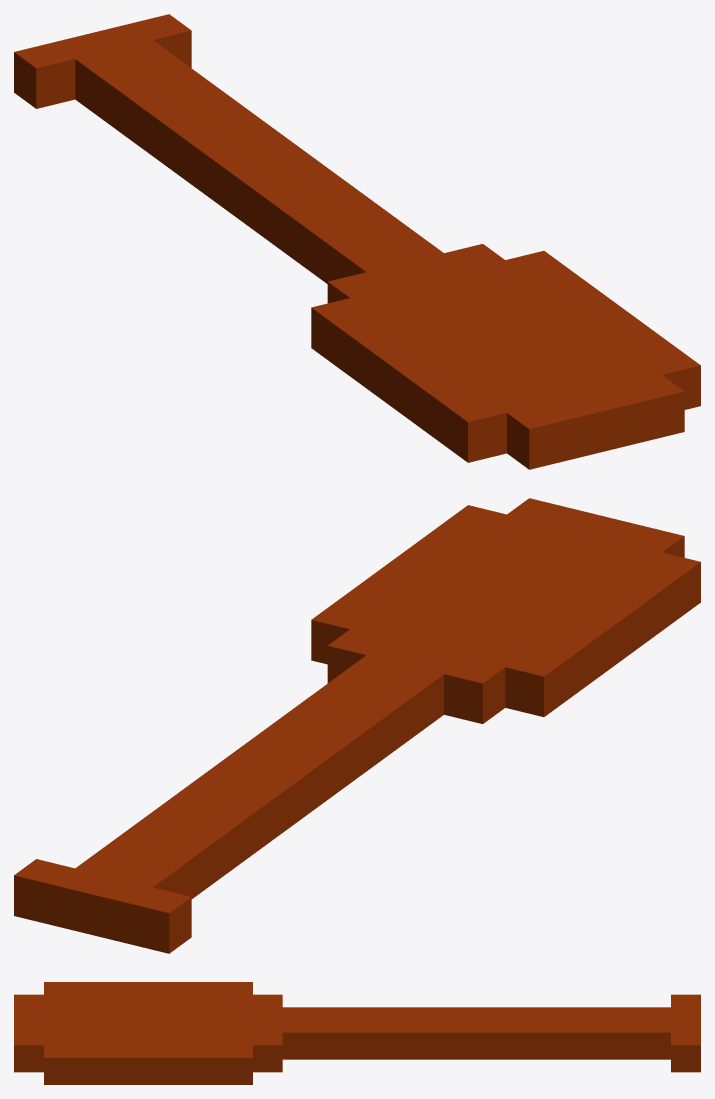
Rendered from remo.obj.
3 renders of one model, top to bottom at view 1: azimuth 30°, elevation 25°; view 2: azimuth 150°, elevation 25°; view 3: azimuth 270°, elevation 25°, orthographic. The views are drawn at different scales.
Size of the model in its own units: 0.6 by 0.1 by 2.3.
1 material, 1 textured.
